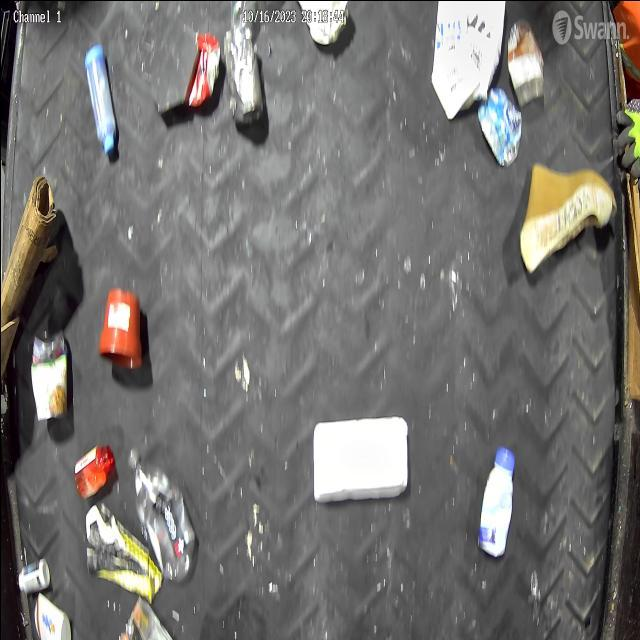can: (25, 310, 79, 431), (222, 0, 266, 132), (477, 76, 529, 164), (504, 18, 548, 114)
